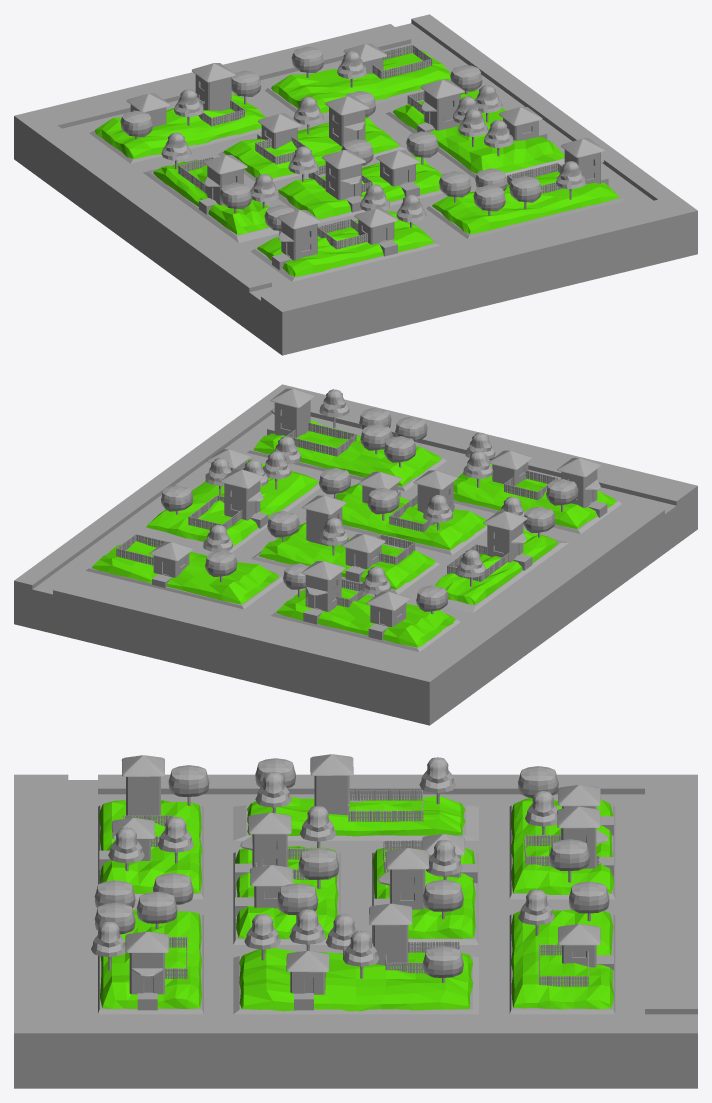
Rendered from SceneAcqu.fbx.
3 views of the same model, one above another, from view 1: azimuth 30°, elevation 25°; view 2: azimuth 150°, elevation 25°; view 3: azimuth 270°, elevation 25° (orthographic). The views are drawn at different scales.
Parts seen in each view (by area): view 1: pCube1, pCube11, pCube14, pCube15, pCube13, pCube10, pCube12, pCube17, pCube16, Maisn_pCube15, Maisn_pCube8, Maisn_pCube11 (+32 smaller); view 2: pCube1, pCube14, pCube15, pCube17, pCube11, pCube13, pCube12, pCube10, pCube16, Maisn_pCube11, Maisn_pCube4, Maisn_pCube10 (+31 smaller); view 3: pCube1, pCube15, pCube14, pCube11, pCube16, pCube10, pCube13, pCube12, pCube17, Maisn_pCube13, Maisn_pCube7, Maisn_pCube15 (+36 smaller).
Part boxes in pixels (x1,y1,x2,y2): pCube1: (14, 14, 697, 355); pCube11: (432, 171, 619, 234); pCube14: (271, 48, 450, 113); pCube15: (393, 90, 564, 174); pCube13: (94, 94, 266, 159); pCube10: (257, 210, 434, 276); pCube12: (223, 117, 399, 178); pCube17: (278, 155, 442, 219); pCube16: (153, 160, 269, 234); Maisn_pCube15: (277, 209, 321, 260); Maisn_pCube8: (321, 149, 365, 200); Maisn_pCube11: (420, 79, 464, 130); pCube1: (14, 384, 697, 725); pCube14: (91, 538, 278, 604); pCube15: (146, 459, 318, 545); pCube17: (333, 484, 486, 550); pCube11: (253, 420, 441, 486); pCube13: (276, 587, 455, 647); pCube12: (259, 523, 435, 589); pCube10: (453, 463, 616, 529); pCube16: (434, 528, 558, 604); Maisn_pCube11: (220, 469, 264, 520); Maisn_pCube4: (301, 561, 345, 611); Maisn_pCube10: (483, 511, 527, 562); pCube1: (14, 774, 697, 1088); pCube15: (239, 948, 473, 1011); pCube14: (510, 909, 614, 1009); pCube11: (100, 910, 201, 1009); pCube16: (247, 796, 465, 836); pCube10: (99, 800, 202, 893); pCube13: (510, 798, 614, 894); pCube12: (372, 846, 475, 938); pCube17: (235, 846, 338, 938); Maisn_pCube13: (125, 931, 168, 994); Maisn_pCube7: (377, 848, 429, 909); Maisn_pCube15: (121, 755, 164, 815).
Bounding box in the file's own units: 30.75 × 6.55 × 34.37.
